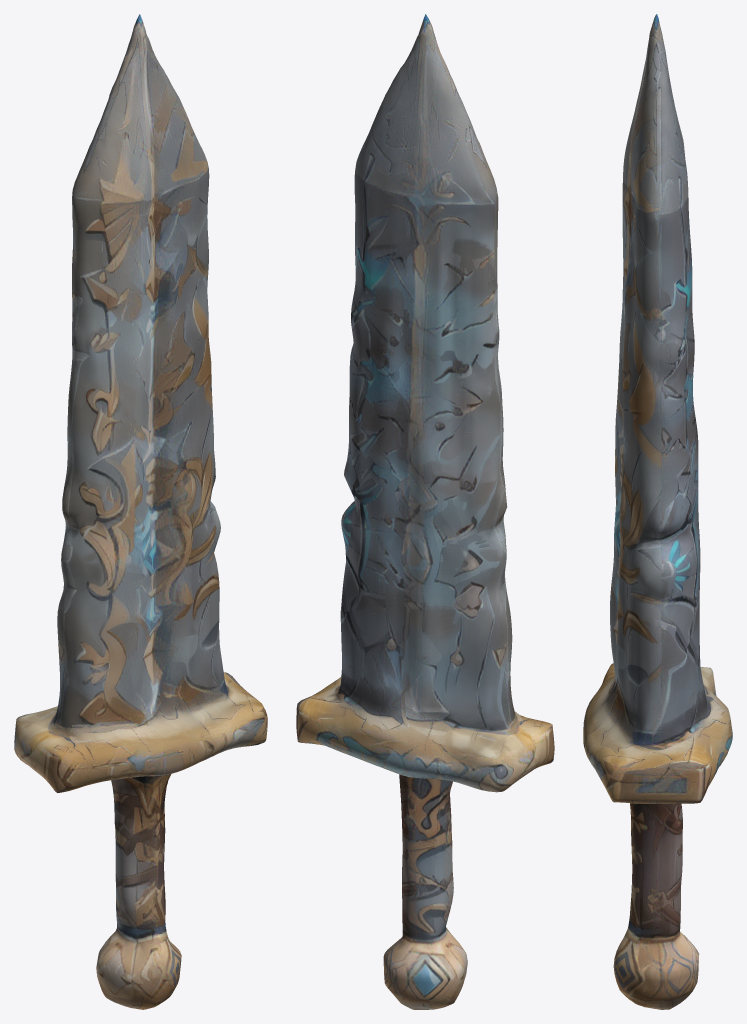
The model's file is GS_mdoel.fbx.
3 views of the same model, side by side, from view 1: azimuth 30°, elevation 25°; view 2: azimuth 150°, elevation 25°; view 3: azimuth 270°, elevation 25° (orthographic).
Parts seen in each view (by area): view 1: Mesh_0; view 2: Mesh_0; view 3: Mesh_0.
Part boxes in pixels (x1,y1,x2,y2): Mesh_0: (14,14,267,1009); Mesh_0: (296,14,554,1009); Mesh_0: (583,14,732,1009).
Size of the model in its own units: 27.84 by 120 by 16.4.
1 material, 1 textured.
